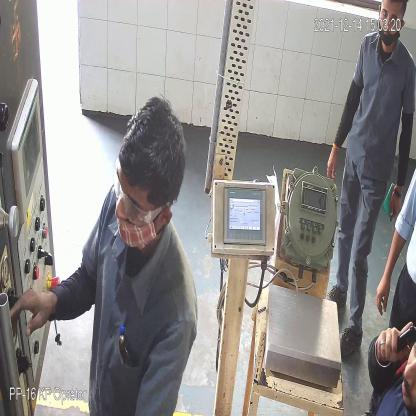no_glove: (374, 229, 406, 316), (8, 286, 58, 336), (325, 141, 340, 181)
